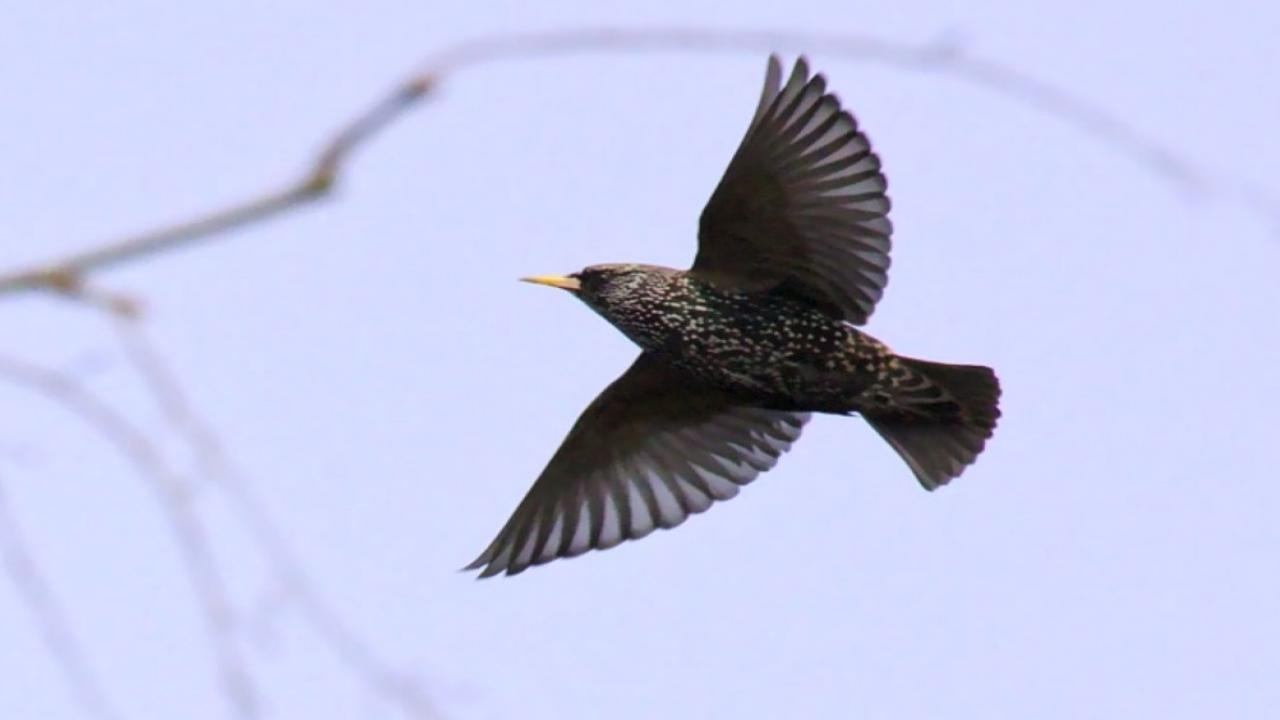Bird: (432, 35, 1038, 598)
